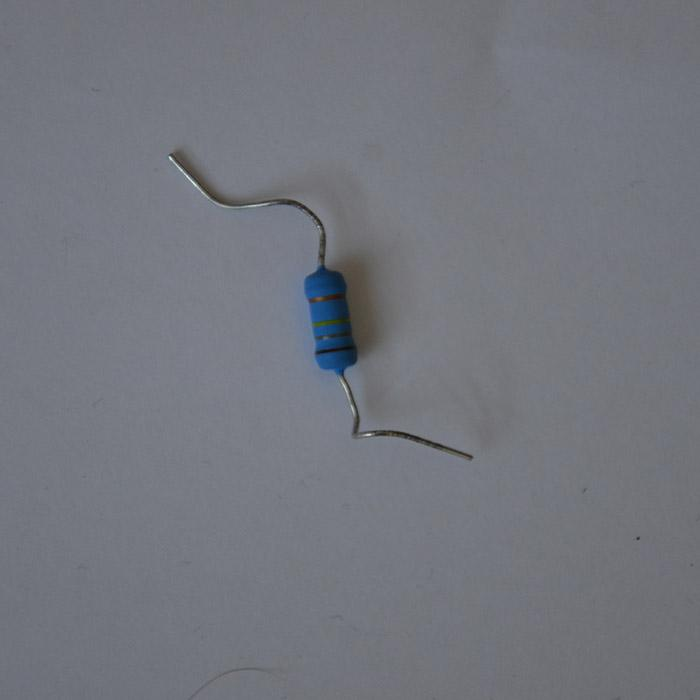resistor: (303, 264, 356, 374)
